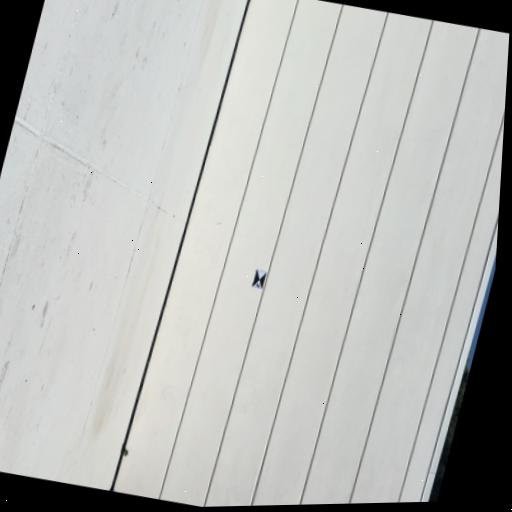target7: (252, 269, 267, 290)
